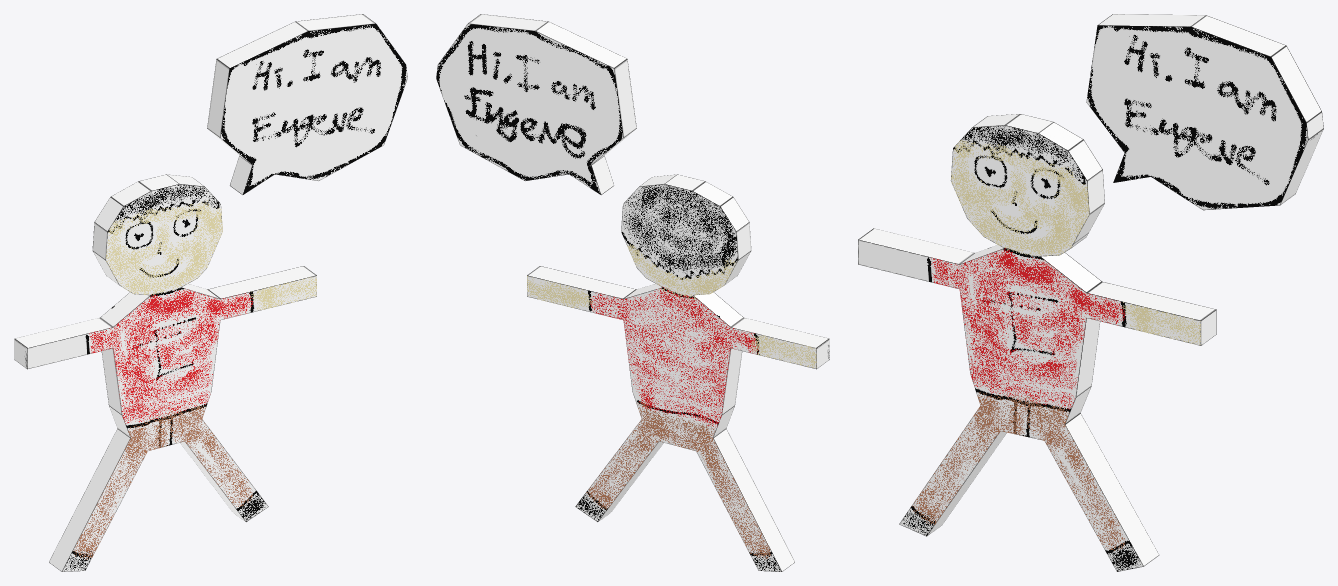
File: randomstickman.glb
3 renders of one model, left to right at view 1: azimuth 30°, elevation 25°; view 2: azimuth 150°, elevation 25°; view 3: azimuth 330°, elevation 25°, orthographic. The views are drawn at different scales.
Parts seen in each view (by area): view 1: Plane; view 2: Plane; view 3: Plane.
Boxes of the visible parts, x1,y1,x2,y2 form: Plane: (14,14,407,571); Plane: (436,14,829,571); Plane: (858,14,1323,571).
Size of what is drawn, in the model's own units: 5.52 by 6.73 by 0.3304.
Materials: 1 (1 with a texture image).
